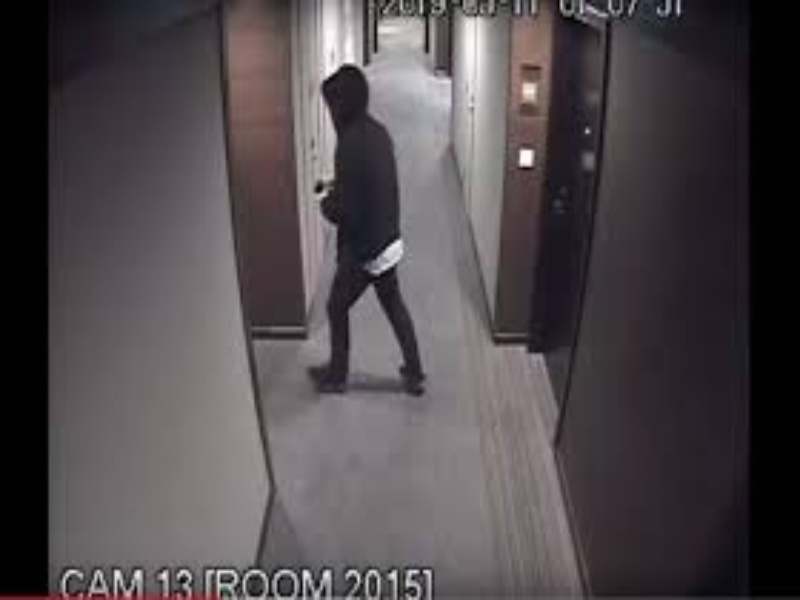person: (301, 59, 434, 408)
